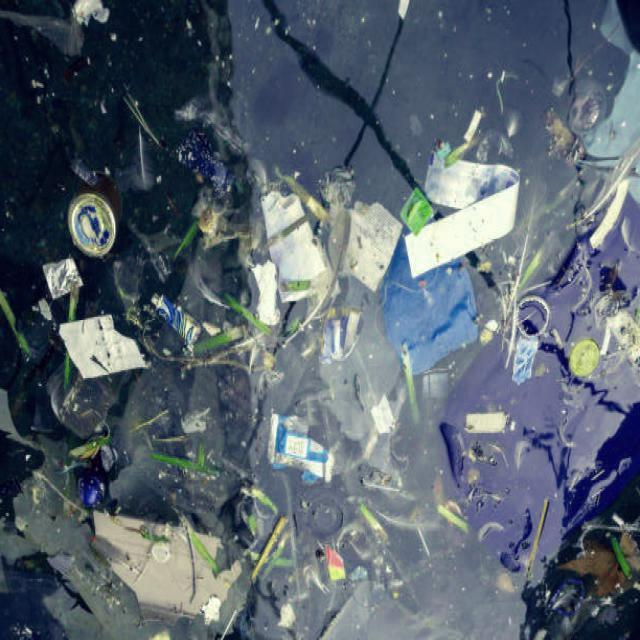Metal: (66, 185, 120, 263), (568, 334, 601, 380)
Trash: (85, 501, 249, 627), (404, 139, 519, 281), (377, 240, 479, 376), (569, 0, 640, 163), (54, 311, 149, 386), (255, 190, 335, 278), (342, 194, 403, 288), (269, 412, 337, 485), (317, 301, 364, 371), (250, 255, 280, 331), (508, 333, 547, 388), (39, 256, 85, 297), (462, 409, 515, 440)
